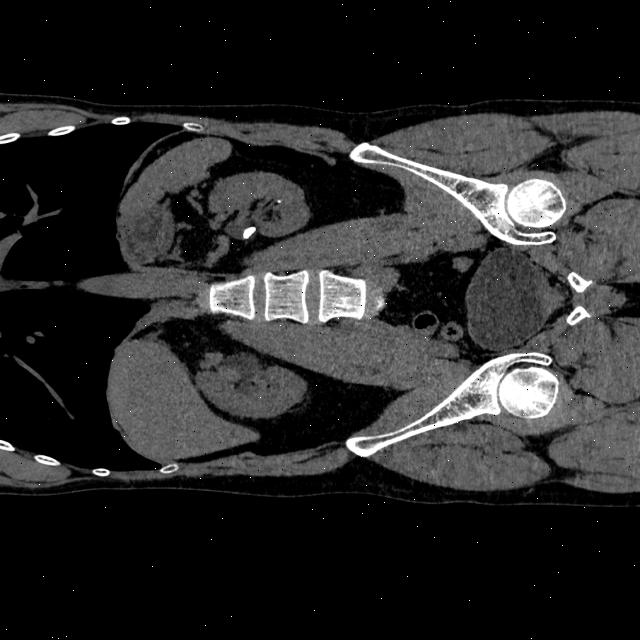kidneystone: (242, 225, 257, 239)
